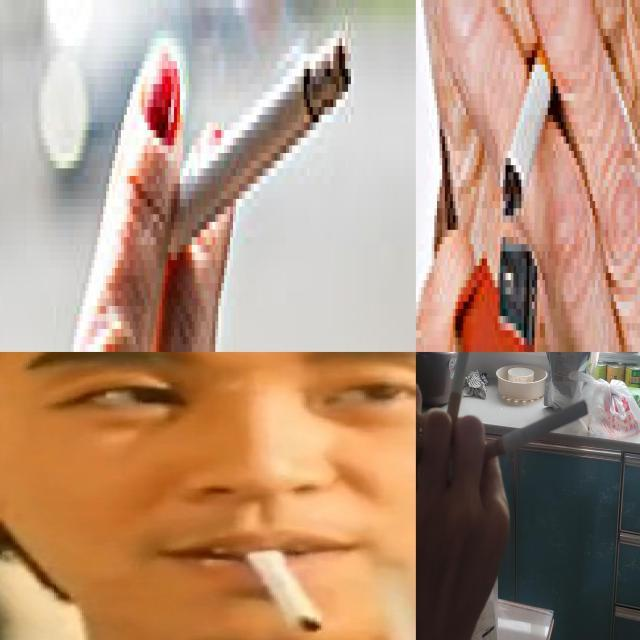smoking: (130, 24, 356, 279), (499, 18, 564, 219), (240, 540, 324, 634), (474, 399, 590, 466), (441, 352, 478, 449)
